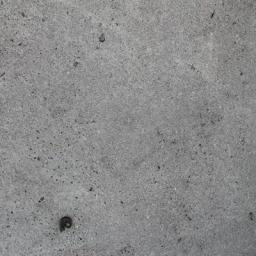FOD: (55, 214, 79, 237)
